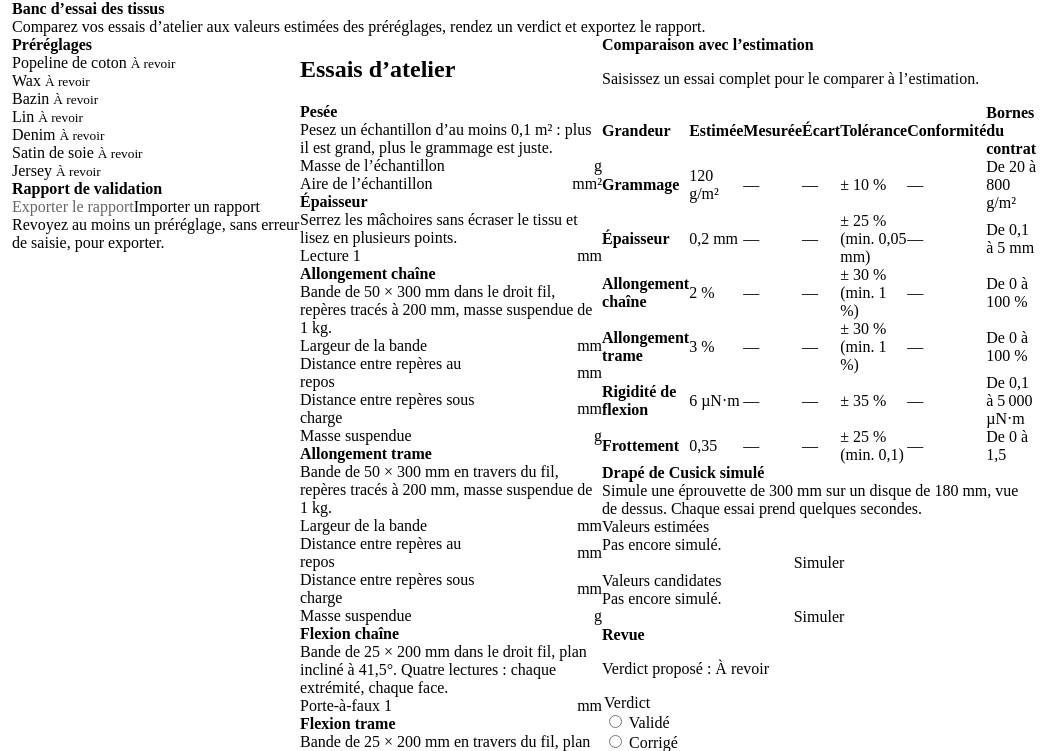
Test: panneau de drapé simulé : états › non convergé : équilibre non atteint, coefficient indicatif
The width and height of the screenshot is (1048, 751).
What coordinates should you click on to do the following:
click the 1st button "Simuler"
I would click on:
 (819, 563)
Its box is [602,554,1036,572].
(page scrolled)
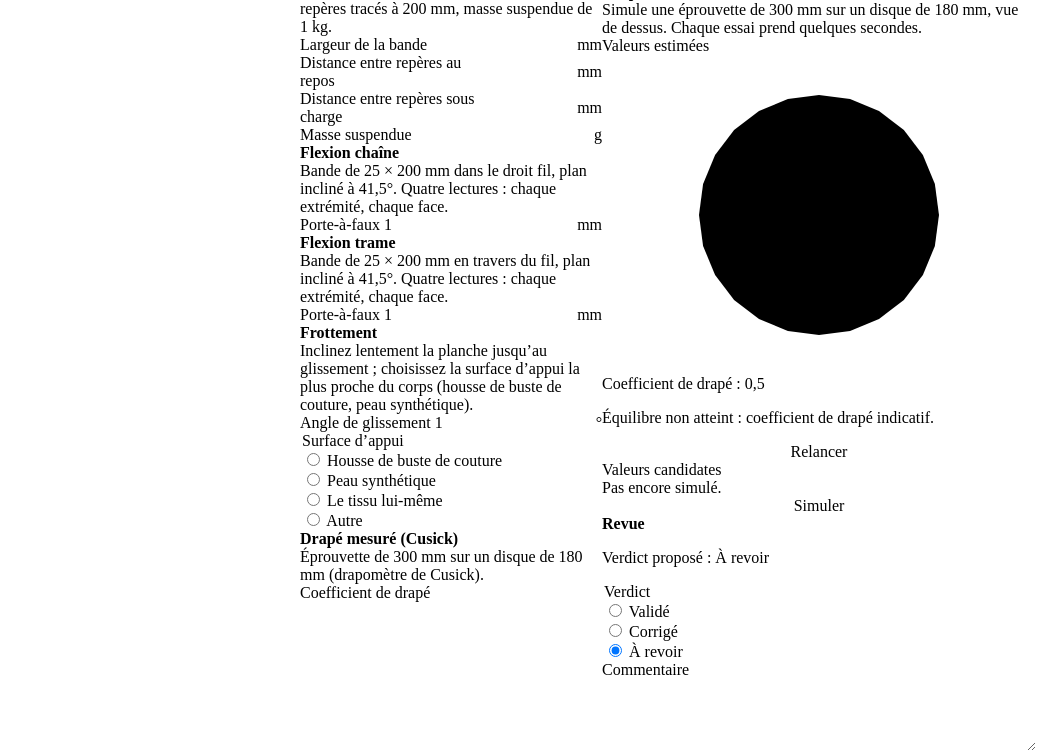
Result: the text "Équilibre non atteint : coefficient de drapé indicatif." is shown at [602,409,934,426]
Result: the text "Coefficient de drapé : 0,5" is shown at [602,375,765,392]
